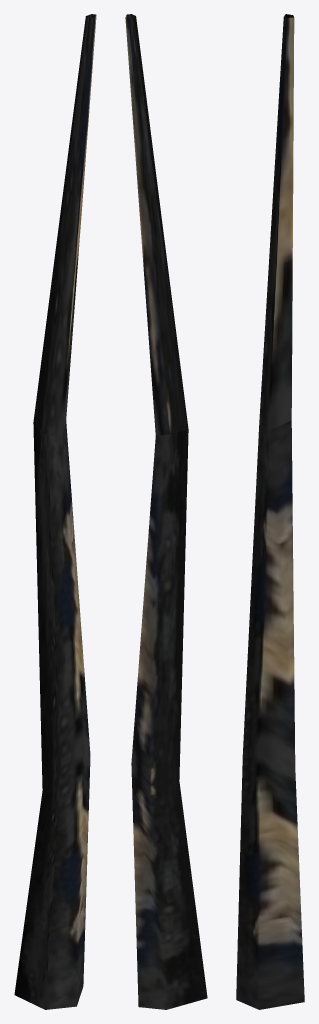
File: pir_m_prp_vol_treeDead_d.fbx
The picture shows the model from 3 angles, left to right: view 1: azimuth 30°, elevation 25°; view 2: azimuth 210°, elevation 25°; view 3: azimuth 330°, elevation 25°; orthographic projection.
Parts seen in each view (by area): view 1: lod_high; view 2: lod_high; view 3: lod_high.
Boxes of the visible parts, <box> form: lod_high: <box>14,14,96,1009</box>; lod_high: <box>125,14,207,1009</box>; lod_high: <box>236,14,304,1009</box>.
Size of the model in its own units: 248 by 3748 by 215.
1 material, 1 textured.
